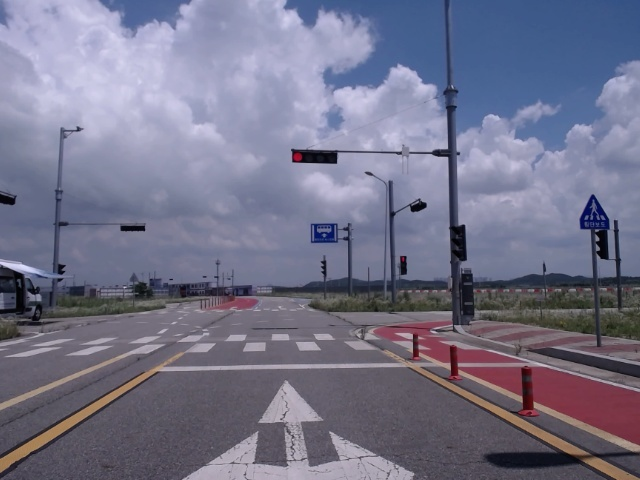red_4: (292, 152, 337, 164)
